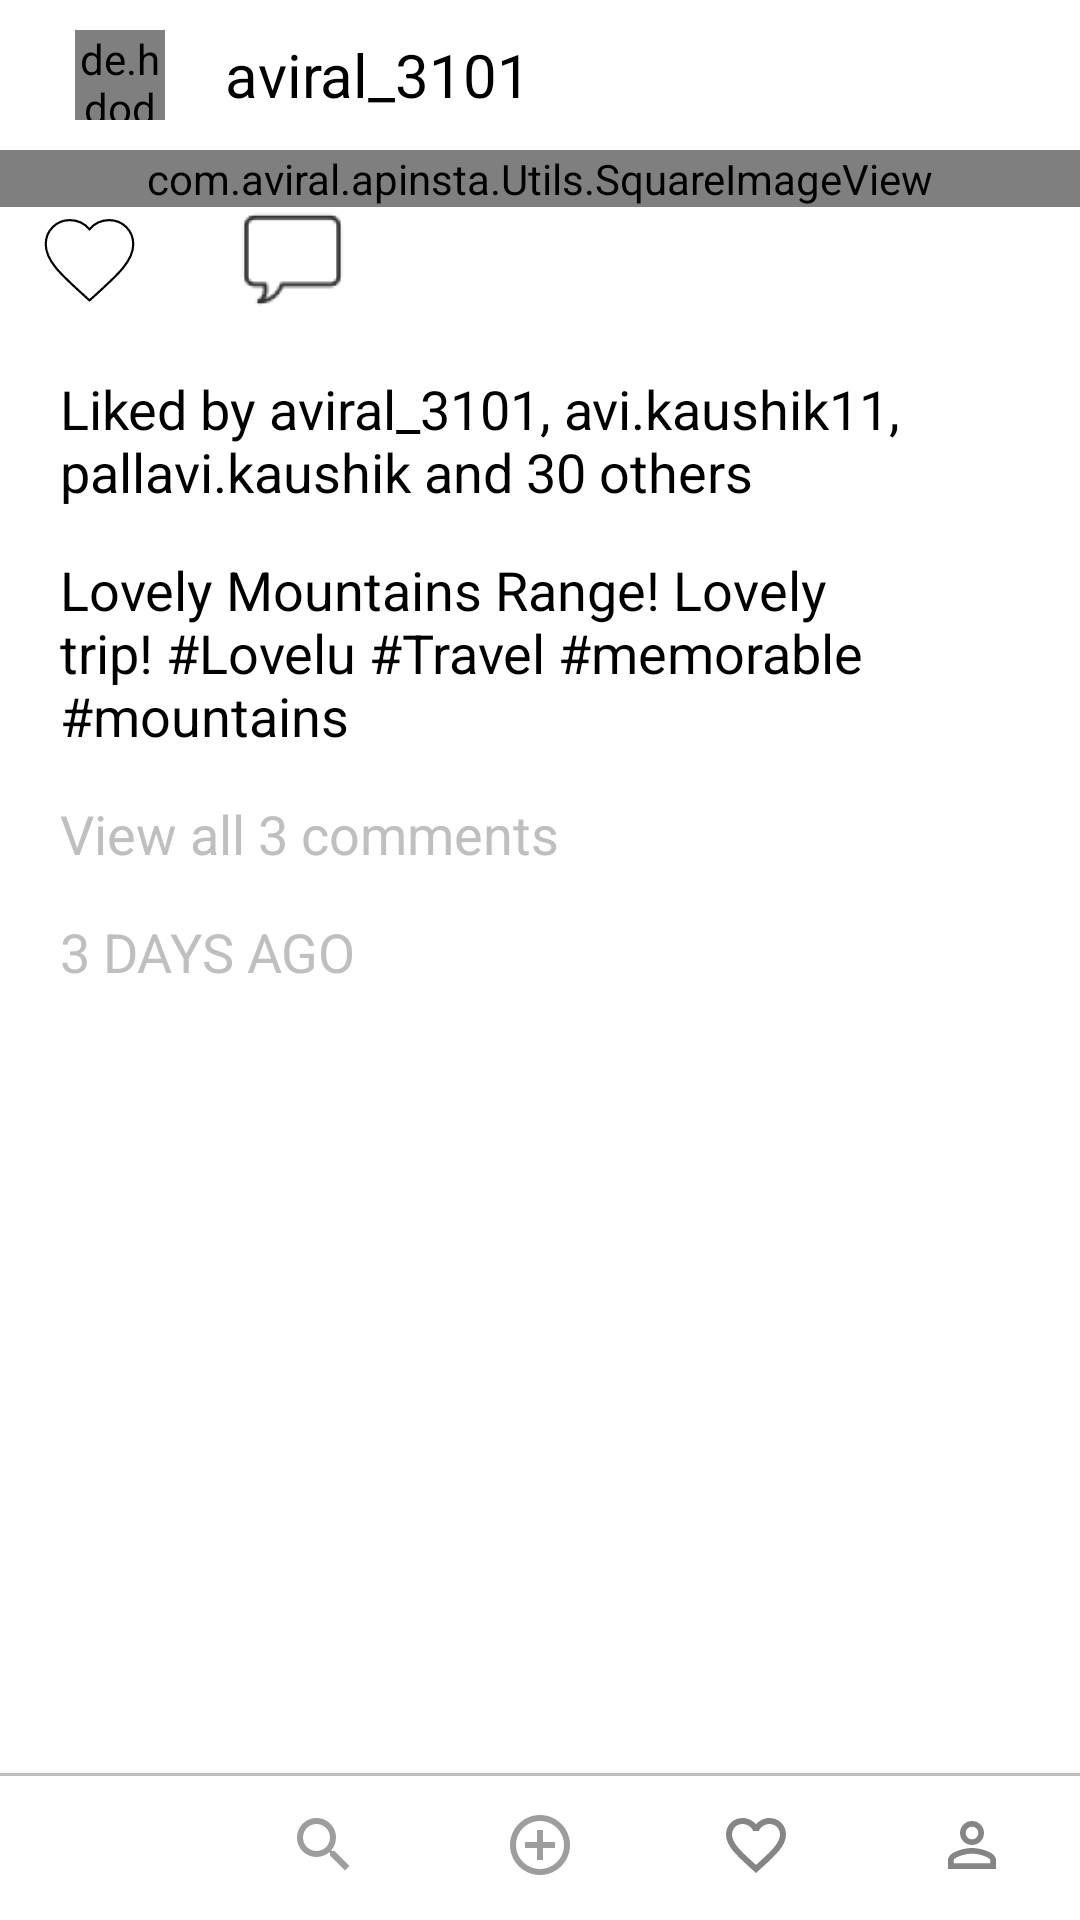

Icons on this 1080w x 1920h Android screen, each with the point to tap as [x,y]:
heart: [89,260]
speech bubble: [292,259]
